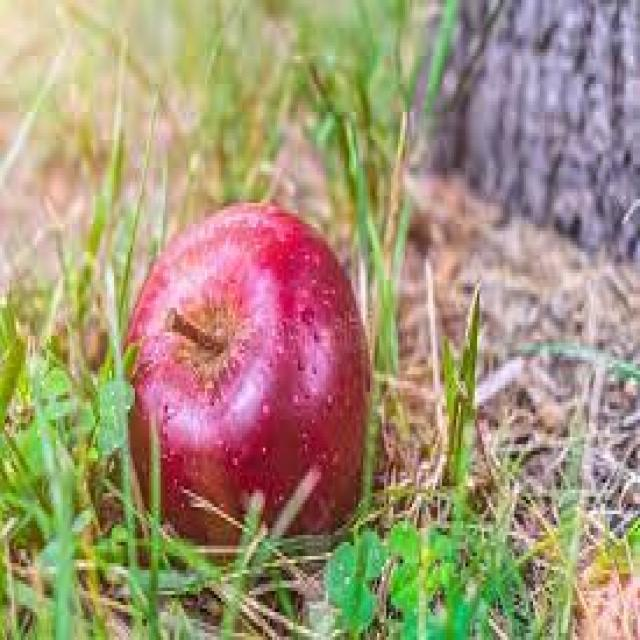Fresh Apple: (113, 202, 375, 552)
